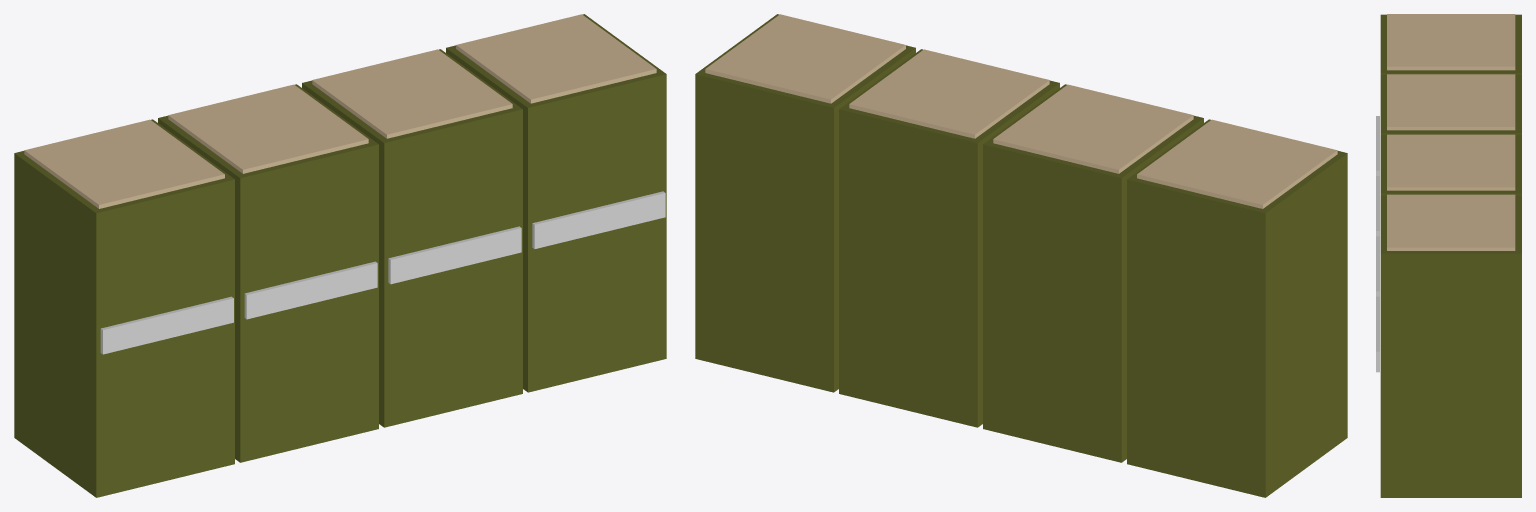
The model's file is SM_HescoCorto4_v1_Geotextil_e0_Sano_LOD1.fbx.
The picture shows the model from 3 angles, left to right: view 1: azimuth 30°, elevation 25°; view 2: azimuth 150°, elevation 25°; view 3: azimuth 270°, elevation 25°; orthographic projection. The views are drawn at different scales.
Visible parts, largest first — view 1: SM_hesco_piezas_v104_LOD1; view 2: SM_hesco_piezas_v104_LOD1; view 3: SM_hesco_piezas_v104_LOD1.
Part boxes in pixels (box(x1,y1,x2,y2)): SM_hesco_piezas_v104_LOD1: box(14, 14, 666, 497); SM_hesco_piezas_v104_LOD1: box(695, 14, 1347, 497); SM_hesco_piezas_v104_LOD1: box(1376, 14, 1521, 497).
Size of the model in its own units: 4.4 by 2.13 by 1.13.
